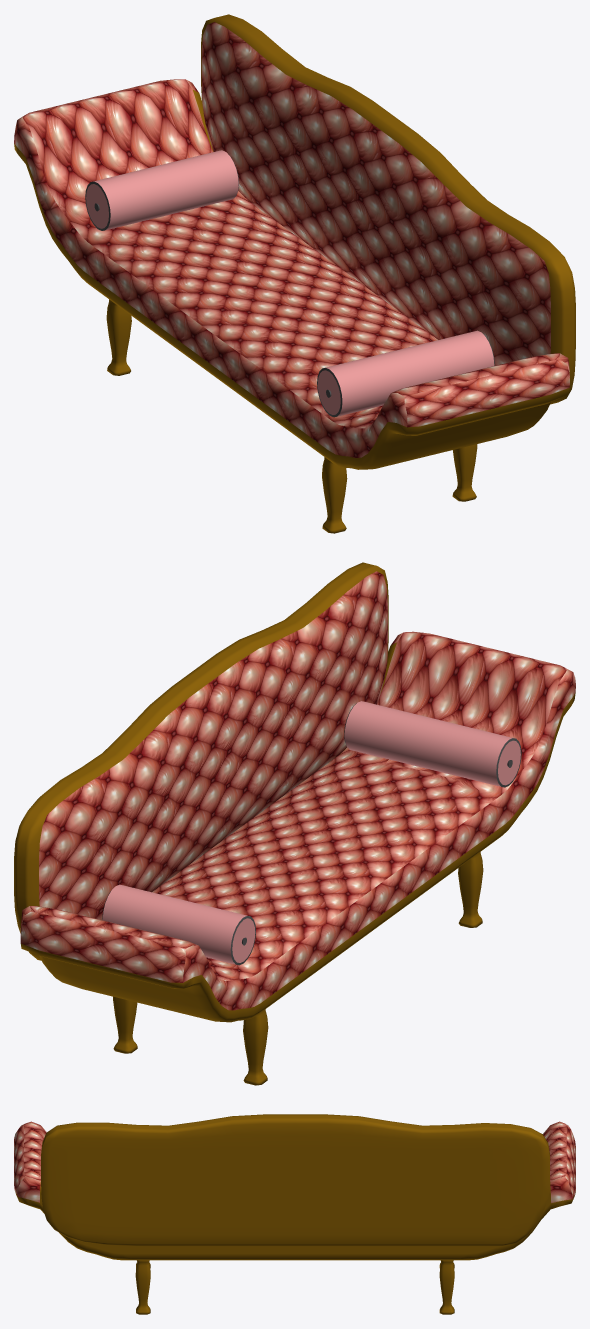
The model's file is Couch.fbx.
3 views of the same model, one above another, from view 1: azimuth 30°, elevation 25°; view 2: azimuth 150°, elevation 25°; view 3: azimuth 270°, elevation 25° (orthographic). The views are drawn at different scales.
Parts seen in each view (by area): view 1: CoachBody, CoachBack, Pillow, Pillow1, FrontRightLeg, FrontLeftLeg, BackRightLeg; view 2: CoachBody, CoachBack, Pillow1, Pillow, FrontLeftLeg, FrontRightLeg, BackLeftLeg; view 3: CoachBack, CoachBody, BackLeftLeg, BackRightLeg.
Boxes of the visible parts, x1,y1,x2,y2 form: CoachBody: (14,79,569,469); CoachBack: (201,14,575,404); Pillow: (85,150,238,230); Pillow1: (317,330,494,417); FrontRightLeg: (322,457,347,533); FrontLeftLeg: (106,299,131,375); BackRightLeg: (452,444,477,501); CoachBody: (20,631,575,1022); CoachBack: (14,562,388,960); Pillow1: (344,701,521,787); Pillow: (102,884,255,965); FrontLeftLeg: (243,1009,268,1085); FrontRightLeg: (458,852,483,927); BackLeftLeg: (113,996,137,1053); CoachBack: (41,1114,549,1246); CoachBody: (14,1121,575,1260); BackLeftLeg: (439,1260,454,1314); BackRightLeg: (135,1260,150,1314).
Bounding box in the file's own units: 2.77 × 3.94 × 9.73.
5 materials, 1 textured.
